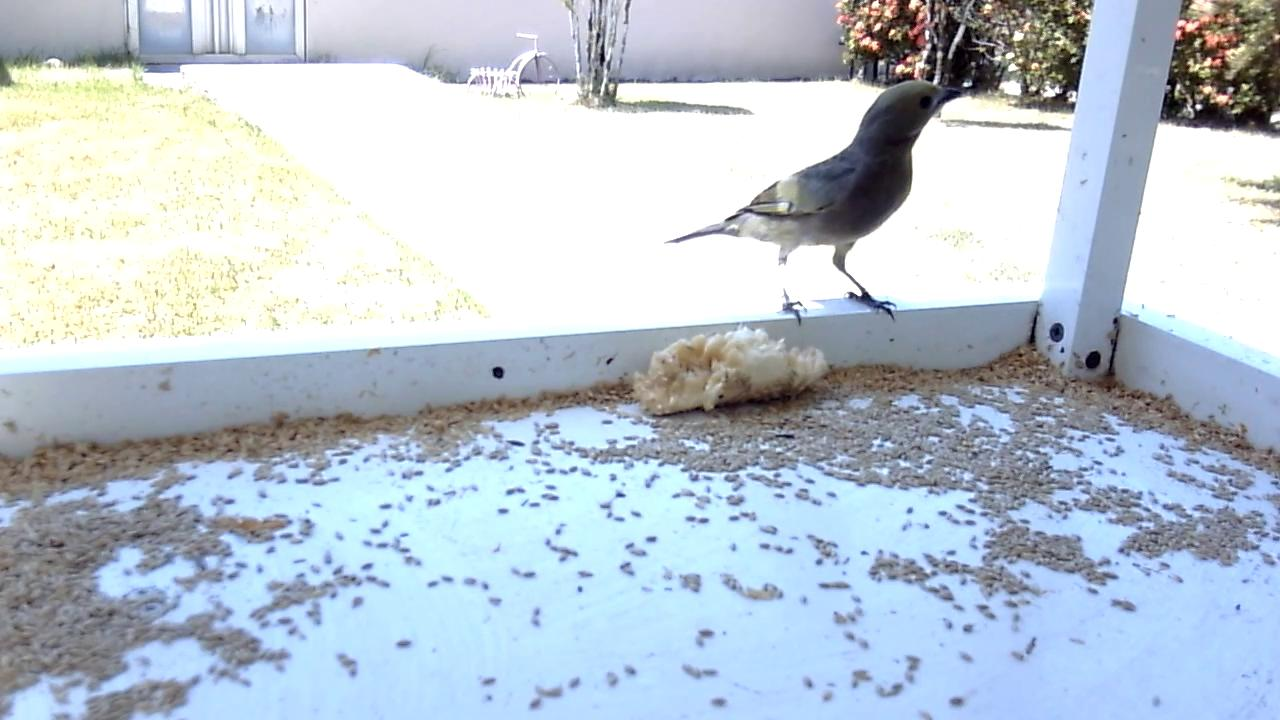sanhaco_do_coqueiro: (662, 81, 968, 325)
